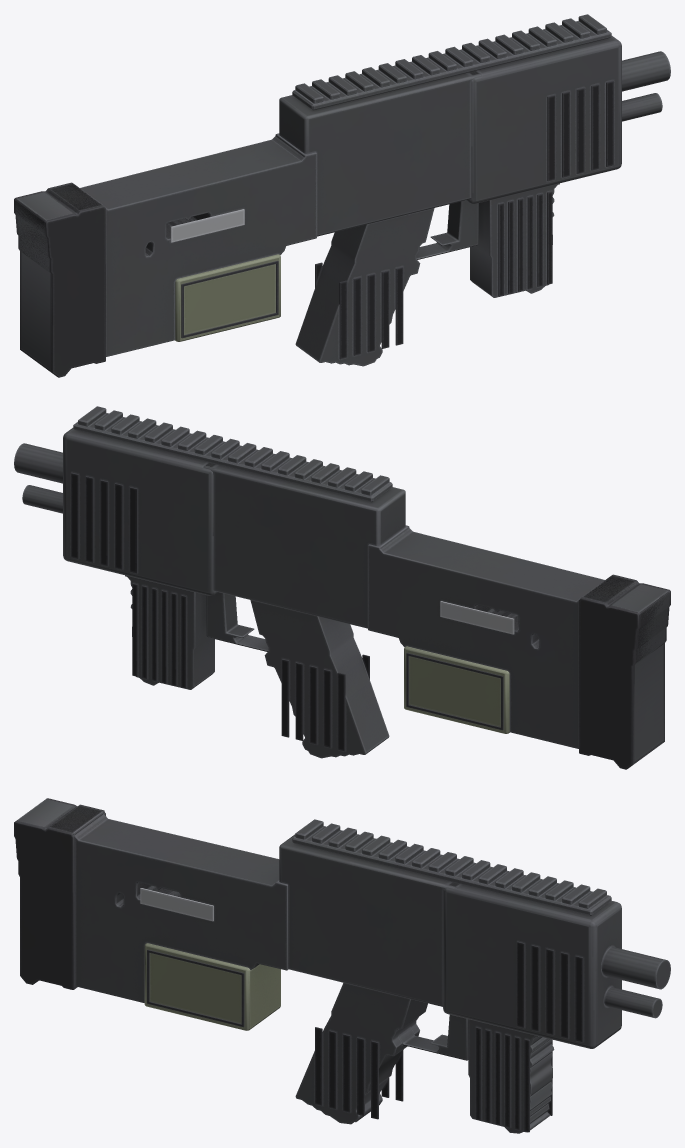
File: AT_QDX99.fbx
The picture shows the model from 3 angles, top to bottom: view 1: azimuth 30°, elevation 25°; view 2: azimuth 150°, elevation 25°; view 3: azimuth 330°, elevation 25°; orthographic projection.
Parts seen in each view (by area): view 1: AT_QDX99; view 2: AT_QDX99; view 3: AT_QDX99.
Boxes of the visible parts, x1,y1,x2,y2 form: AT_QDX99: [14, 14, 670, 377]; AT_QDX99: [14, 406, 670, 769]; AT_QDX99: [14, 798, 670, 1133].
Bounding box in the file's own units: 0.3666 × 0.1533 × 0.0352.
Materials: 1 (1 with a texture image).
